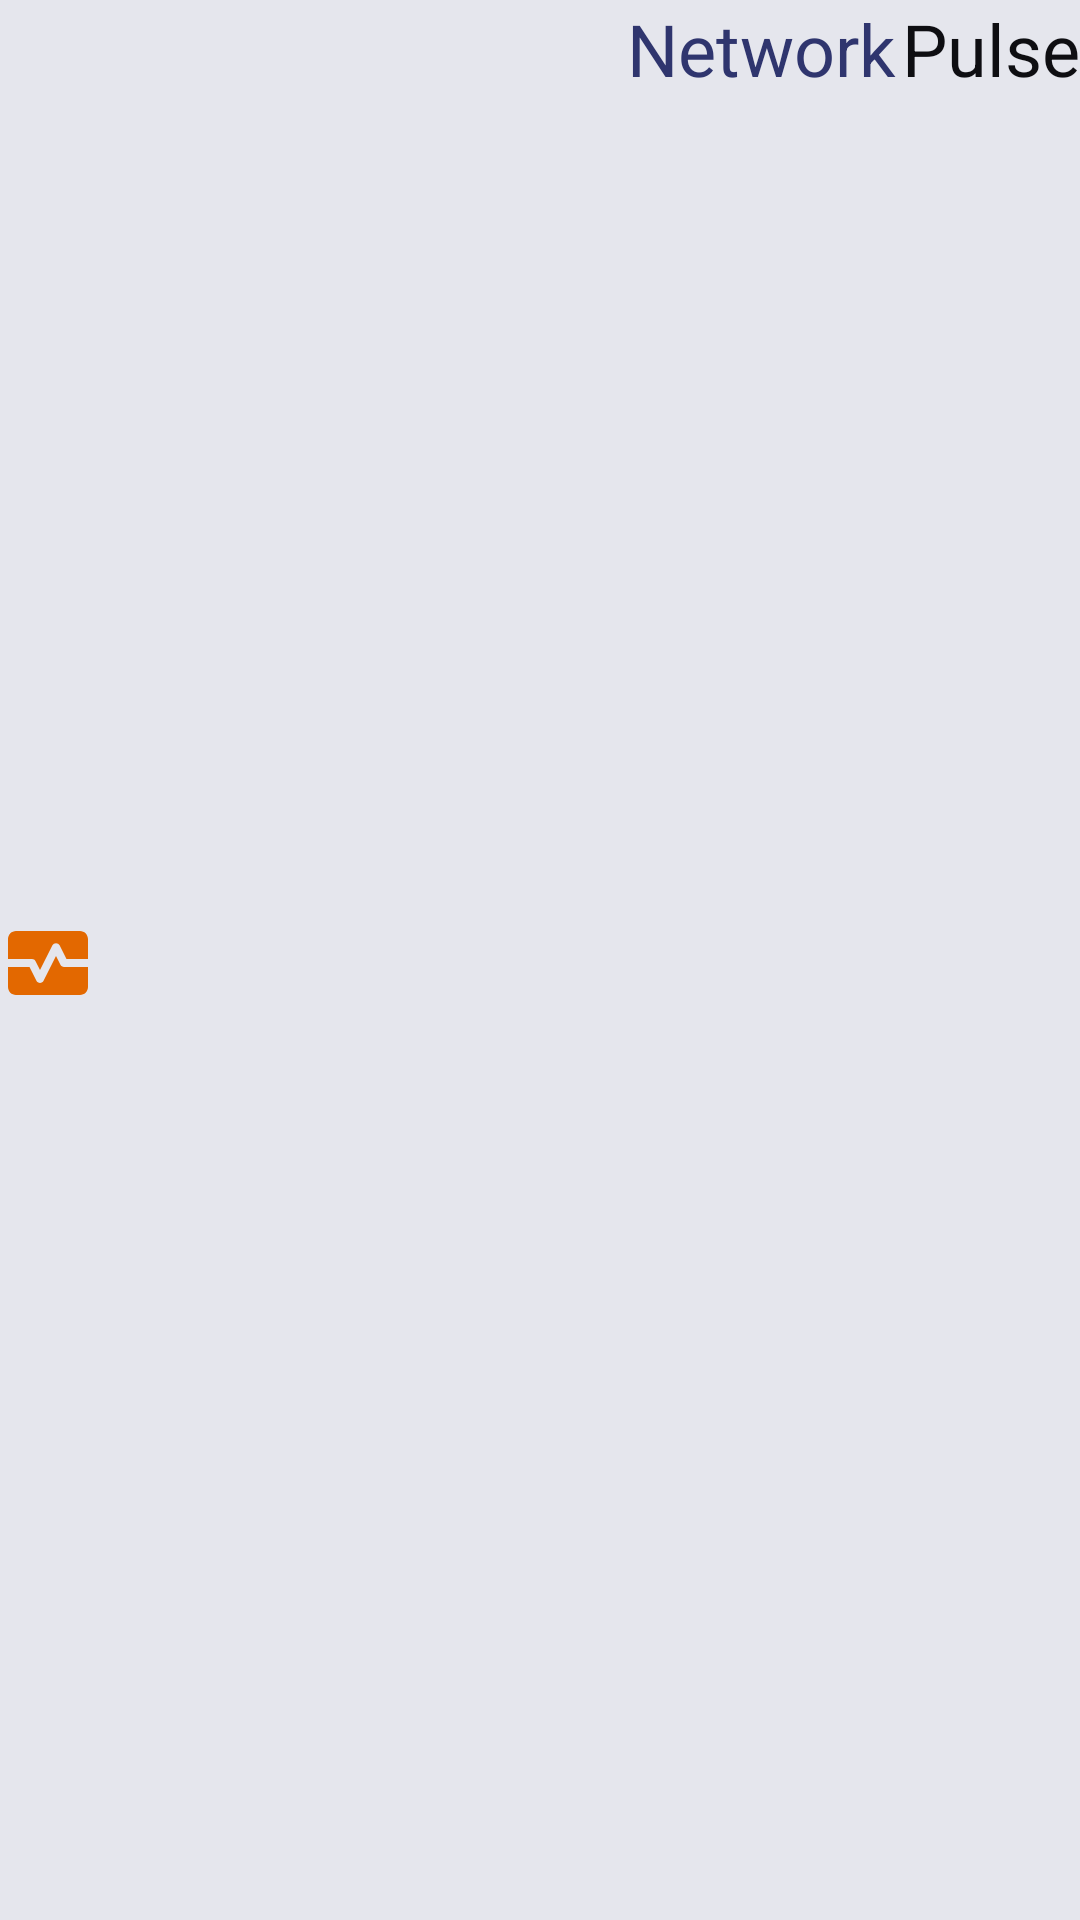

Where to tap for icons on this 1080px x 1920px app screen, as point (x, y):
monitor heart: point (48, 963)
